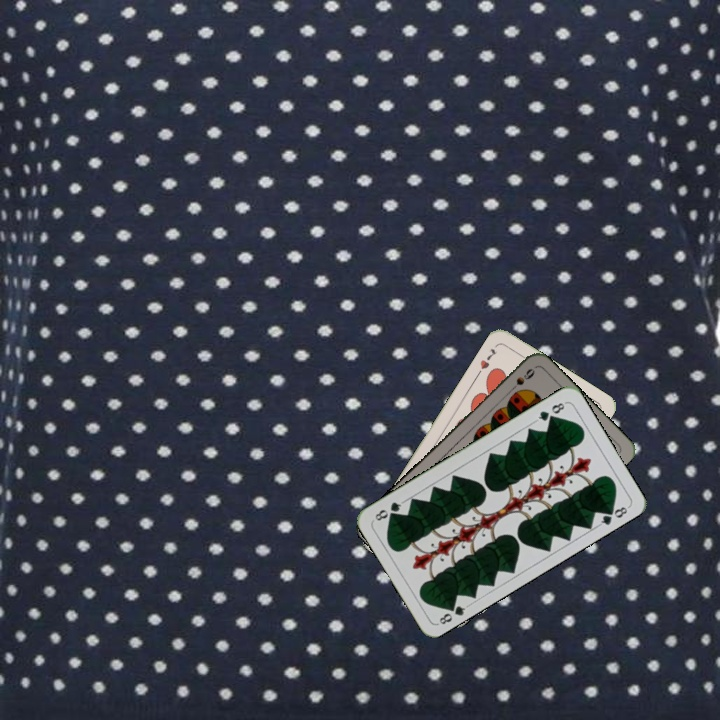G8: (434, 598, 471, 627), (532, 398, 568, 424)
H7: (476, 344, 499, 372)
S9: (504, 364, 537, 396)
